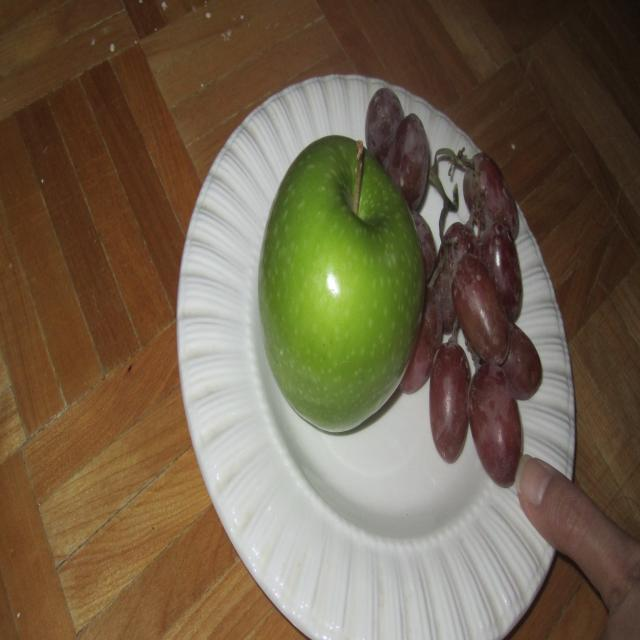apple: (238, 125, 420, 452)
grape: (423, 70, 602, 486)
